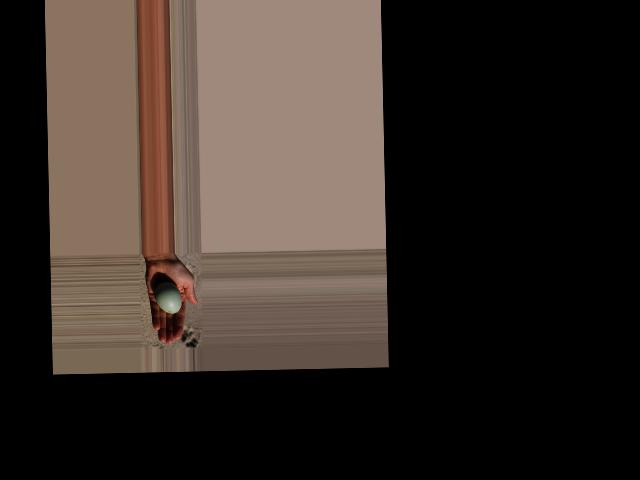egg: (153, 282, 181, 313)
